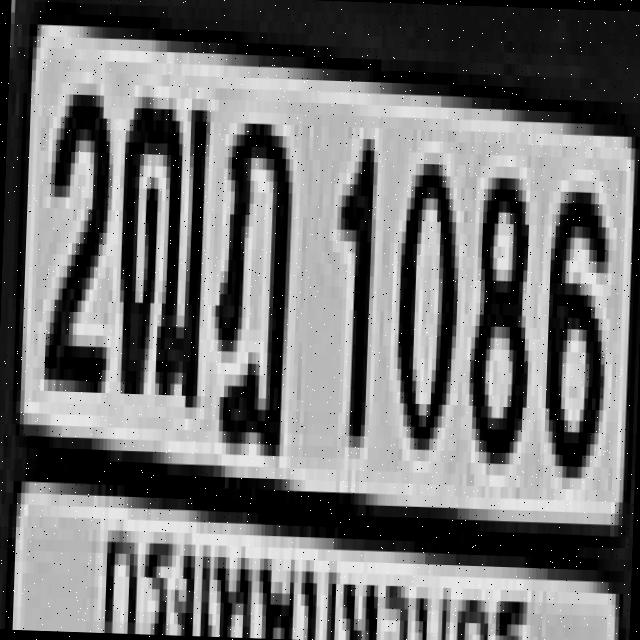0: (391, 152, 458, 438)
1: (330, 121, 370, 430)
2: (38, 77, 110, 376)
23DorChaDa: (206, 110, 291, 444)
27ThorPhuThao: (112, 79, 208, 390)
6: (540, 180, 606, 467)
8: (464, 165, 530, 452)
